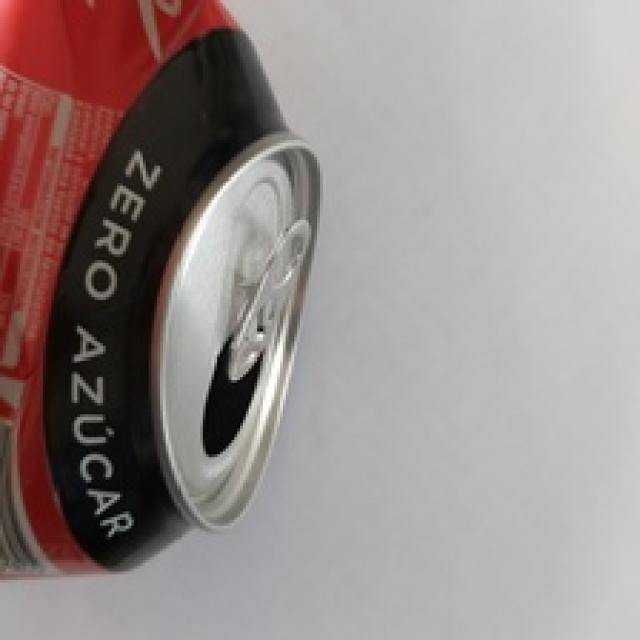recyclable: (0, 0, 320, 577)
